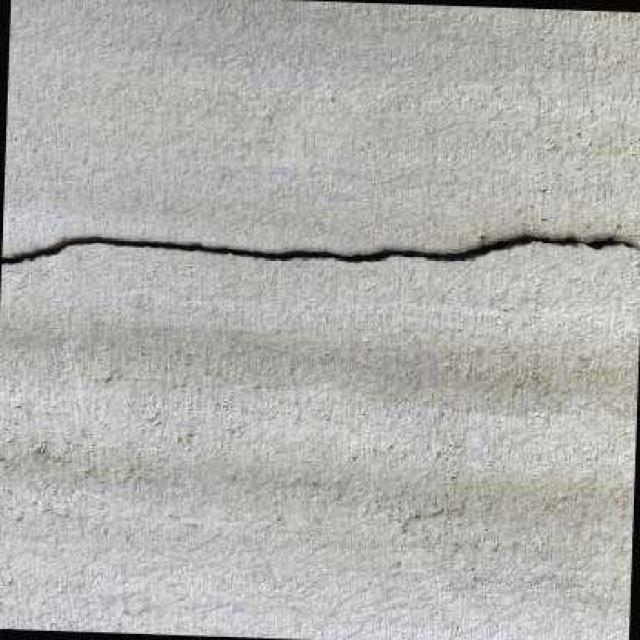D00: (3, 231, 640, 266)
